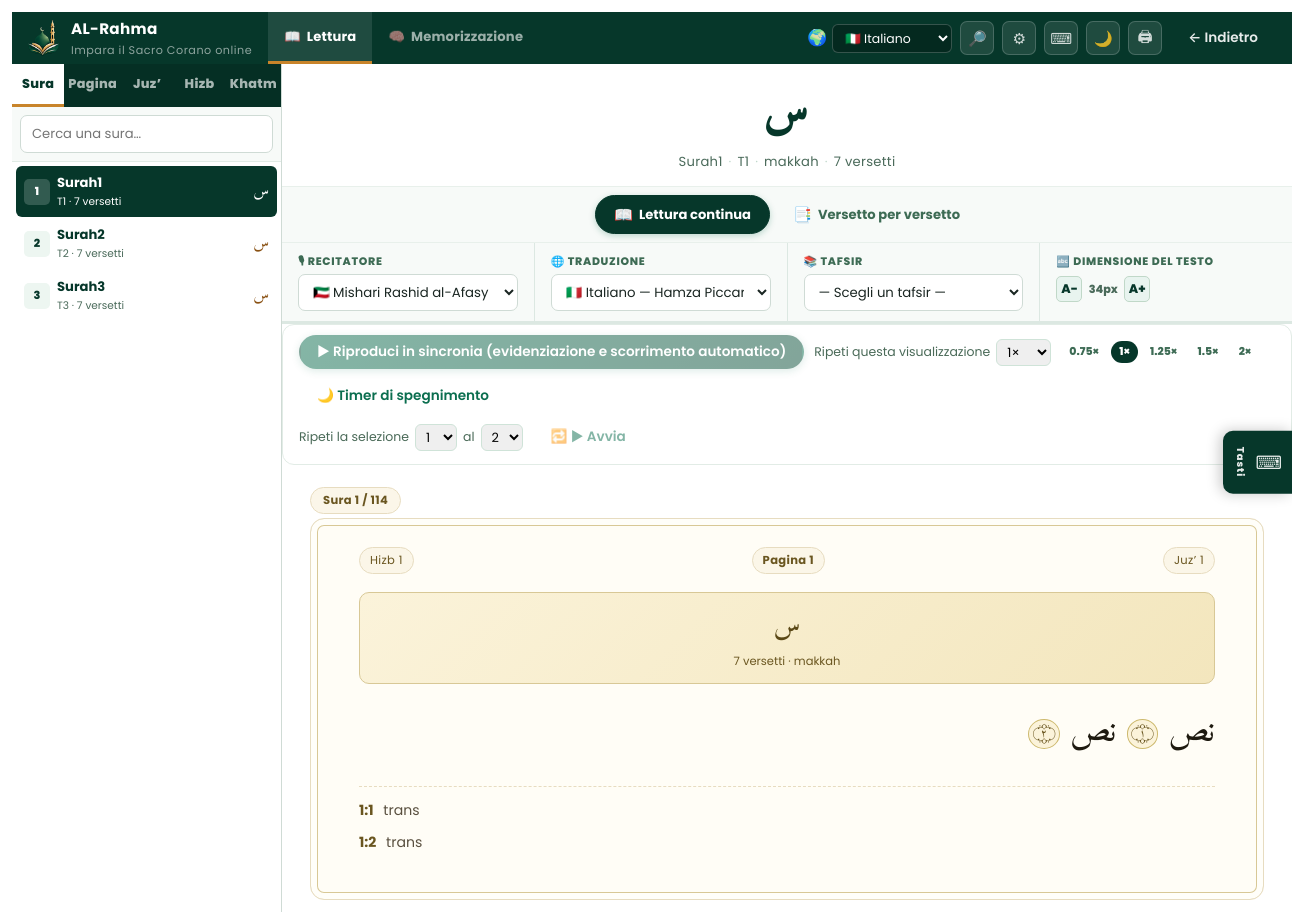
Test: every reader panel is Italian on /it/ (no Arabic or English interface fallback) › hifz test mode toggle and recording errors are Italian
Step 1. Click the button "🧠 Memorizzazione" → [456, 38], box [372,12,539,64]
Wait 100 ms
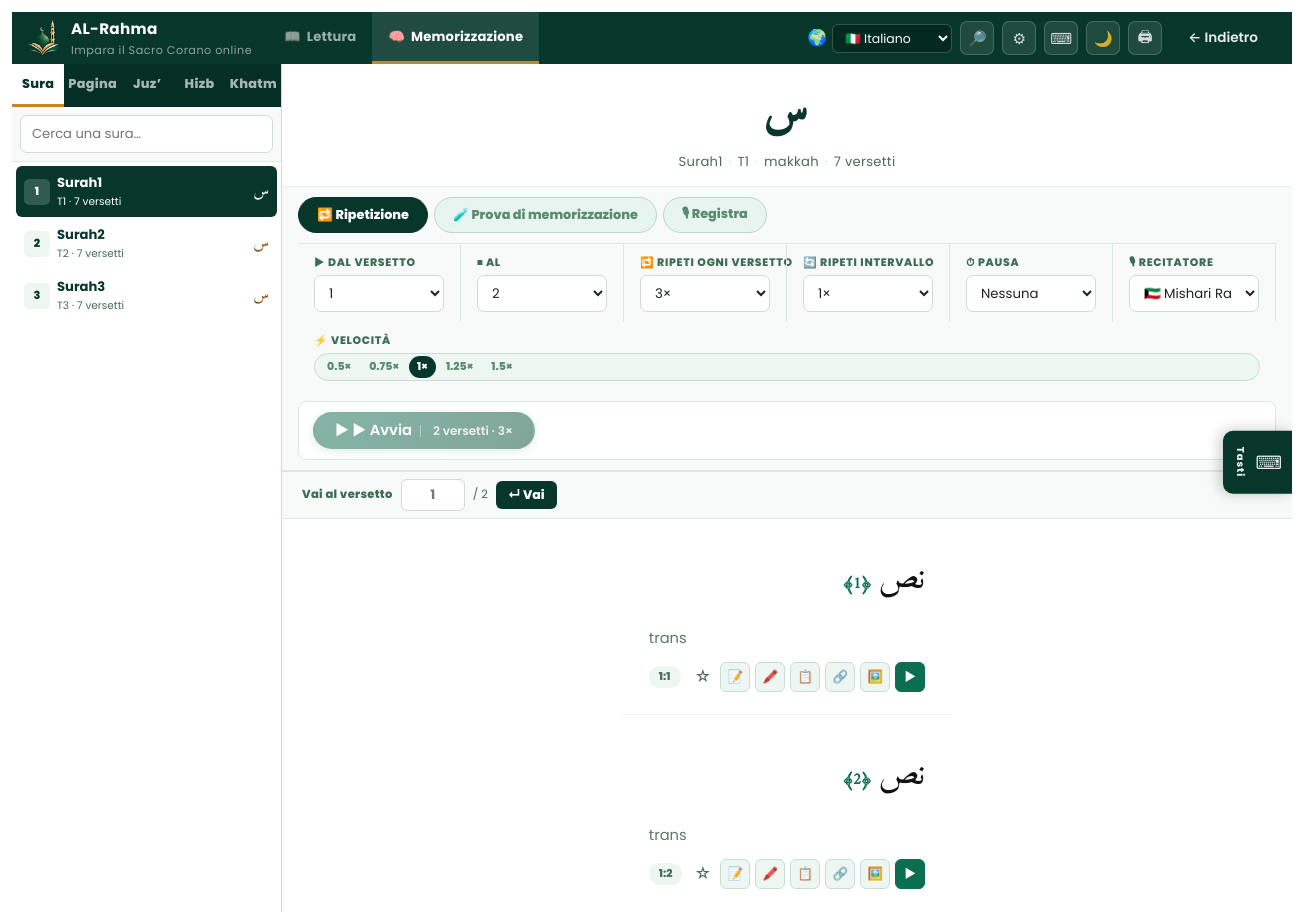
Step 2. Click the button "🧪 Prova di memorizzazione" → [545, 215], box [434,197,657,233]
Wait 100 ms
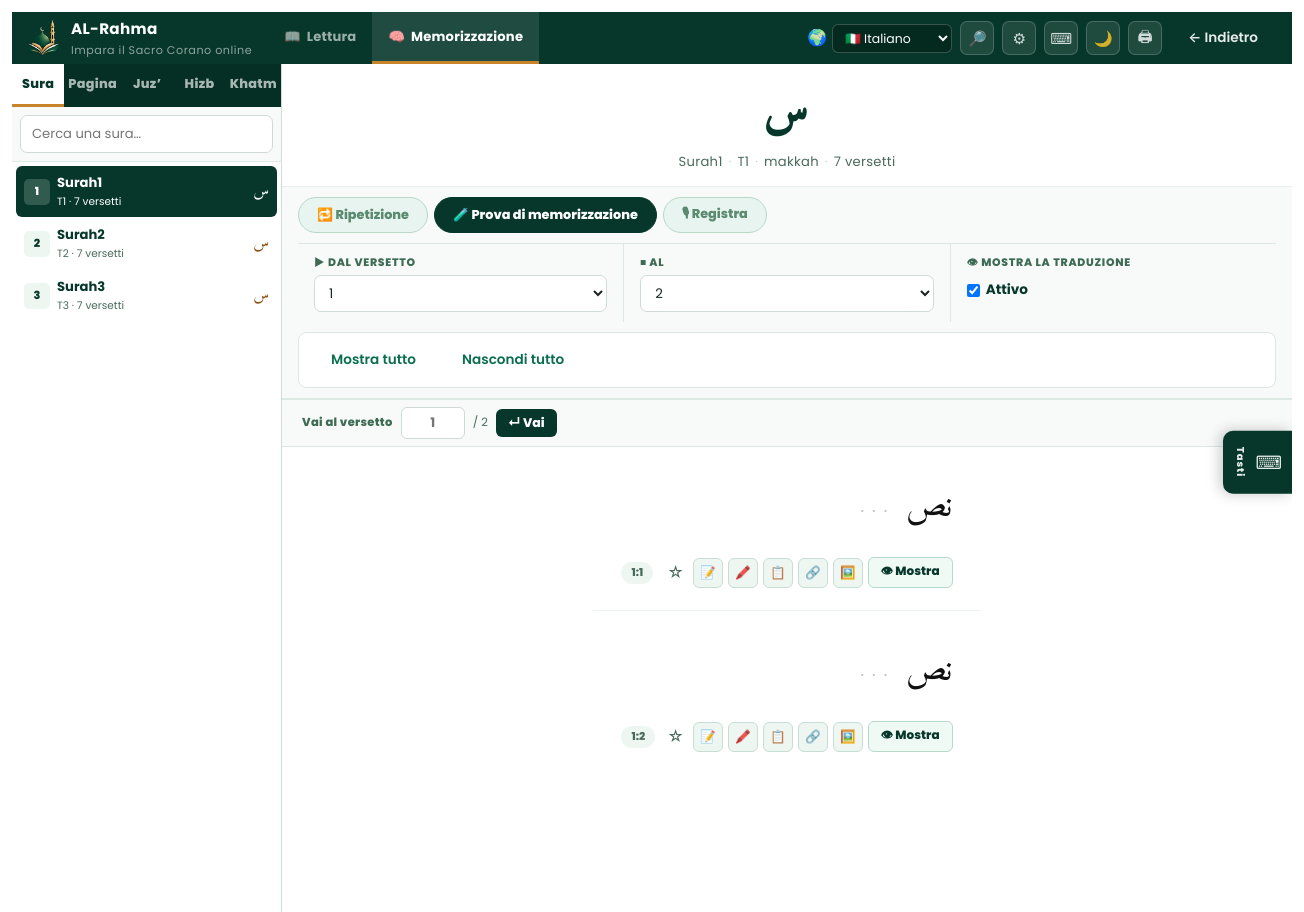
expect the label "Attivo" is shown: met, box [967,280,1028,299]
Step 3. Click the checkbox labelled "Attivo" → [973, 290], box [967,284,980,297]
Wait 100 ms
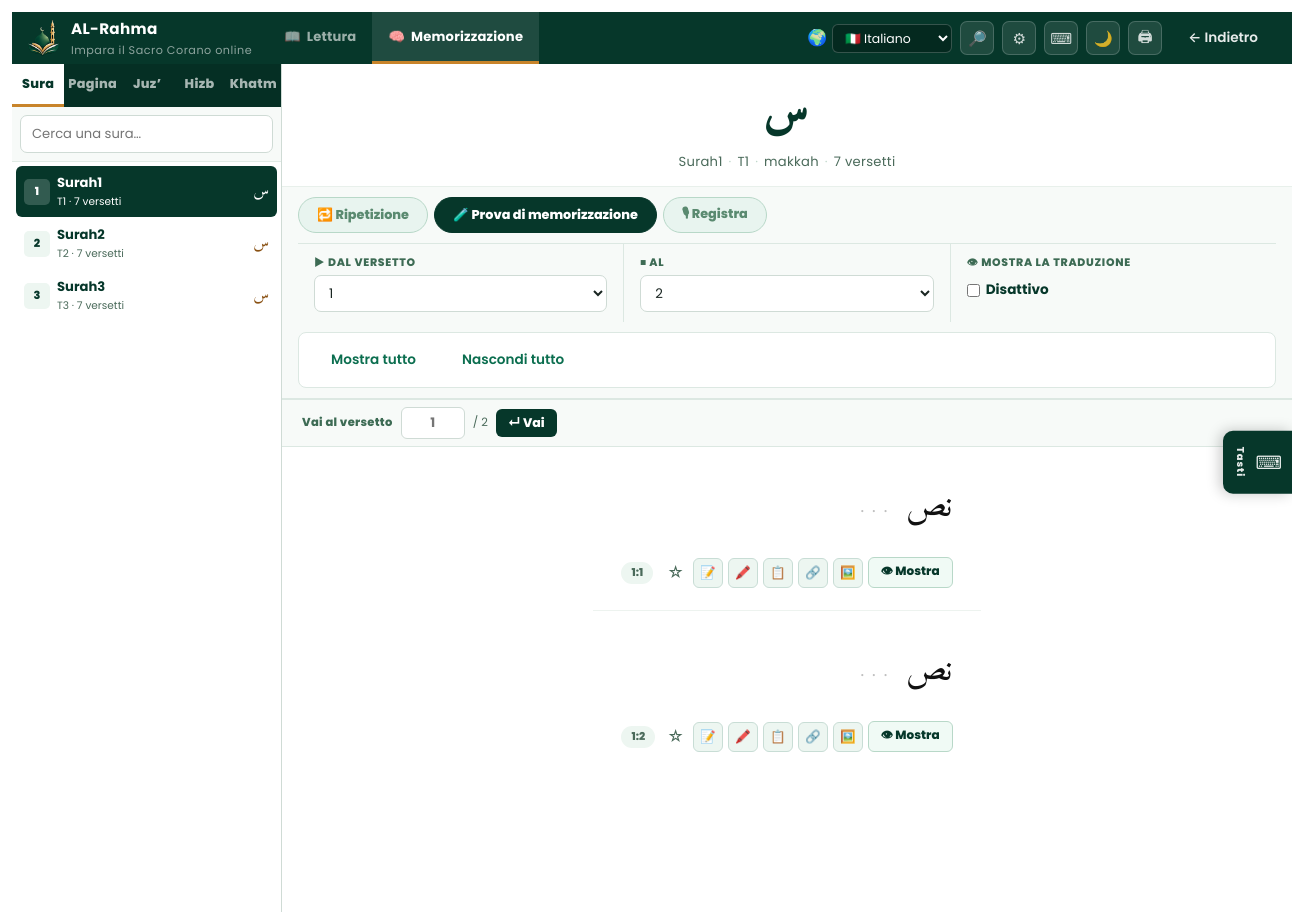
expect the label "Disattivo" is shown: met, box [967,280,1049,299]
